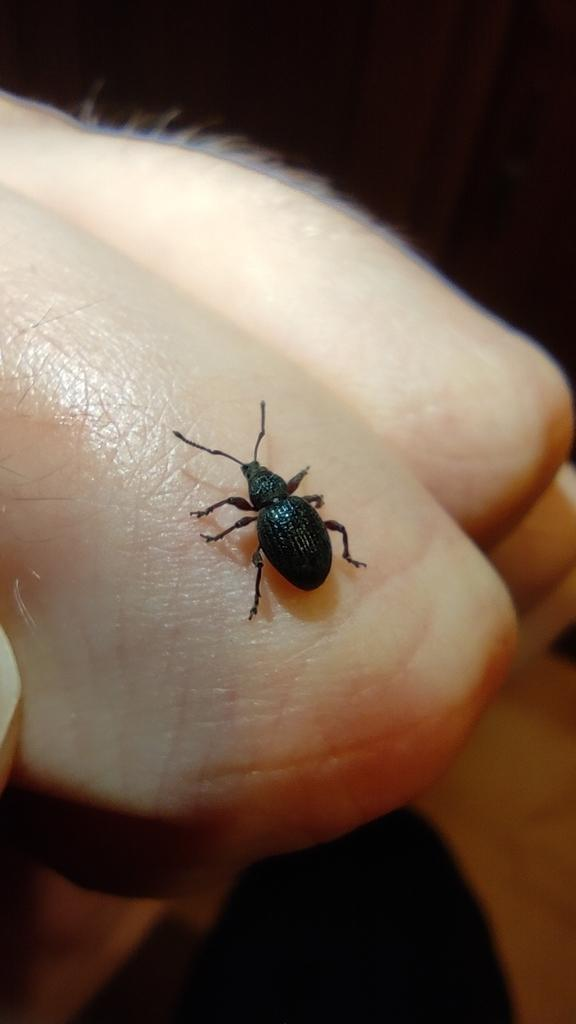weevils: (129, 357, 423, 660)
